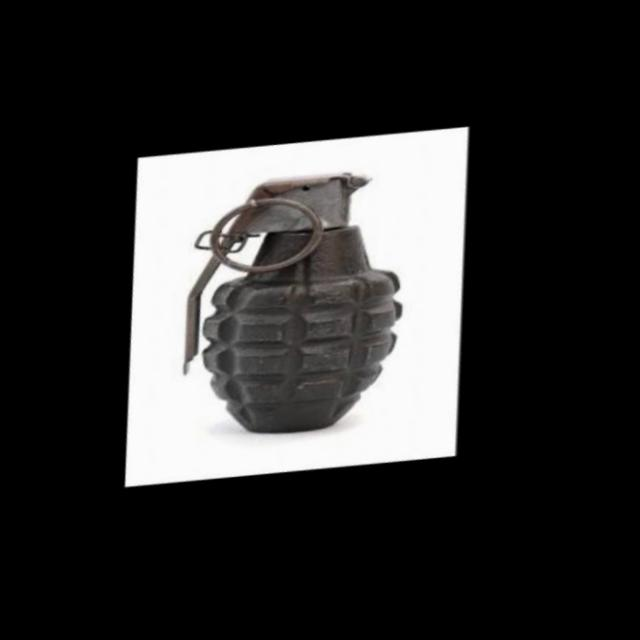grenade: (110, 121, 488, 501)
